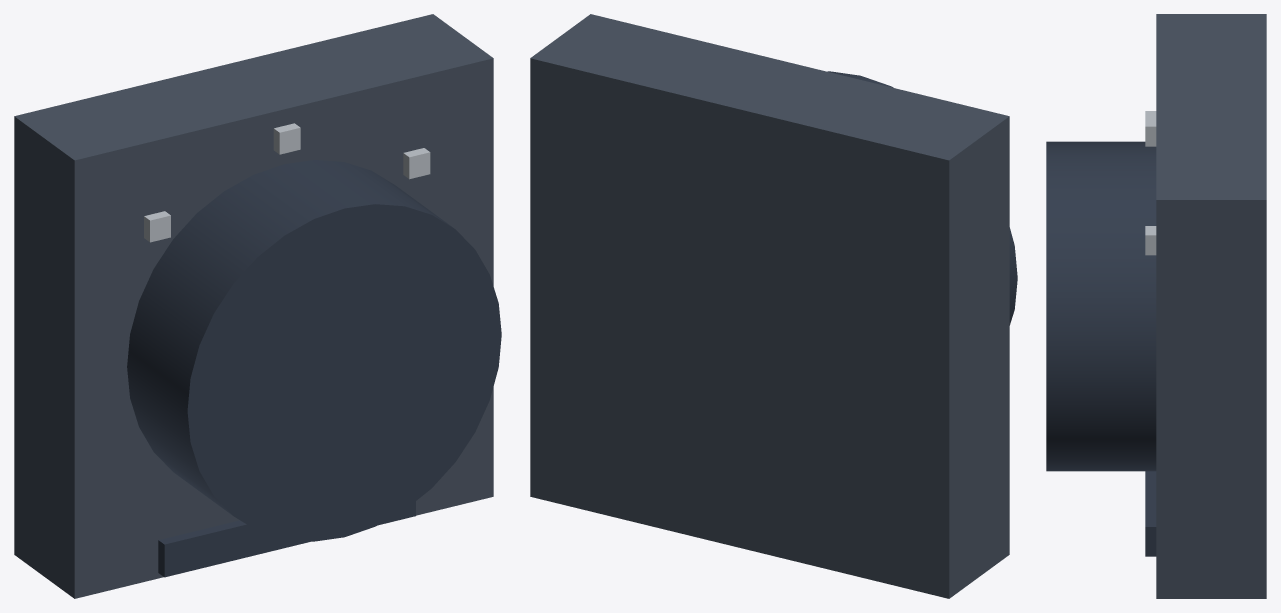
File: selector_switch.glb
The picture shows the model from 3 angles, left to right: view 1: azimuth 30°, elevation 25°; view 2: azimuth 150°, elevation 25°; view 3: azimuth 270°, elevation 25°; orthographic projection. The views are drawn at different scales.
Parts seen in each view (by area): view 1: panel; view 2: panel; view 3: panel.
Boxes of the visible parts, box(x1,y1,x2,y2) form: panel: box(14, 14, 501, 598); panel: box(530, 14, 1017, 598); panel: box(1046, 14, 1266, 598).
Bounding box in the file's own units: 0.08 × 0.08 × 0.04.
